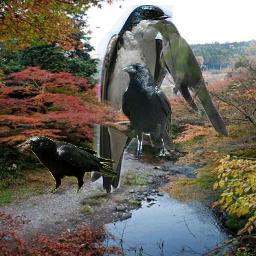Crow: (17, 136, 117, 194), (122, 62, 175, 156)
Cuckoo: (148, 19, 232, 139)
Swallow: (91, 5, 173, 193)
